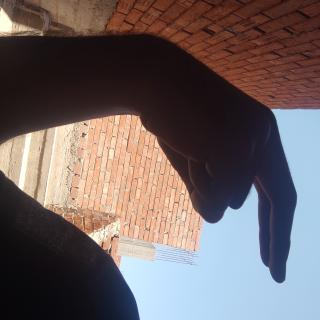ZAY: (19, 25, 213, 253)
